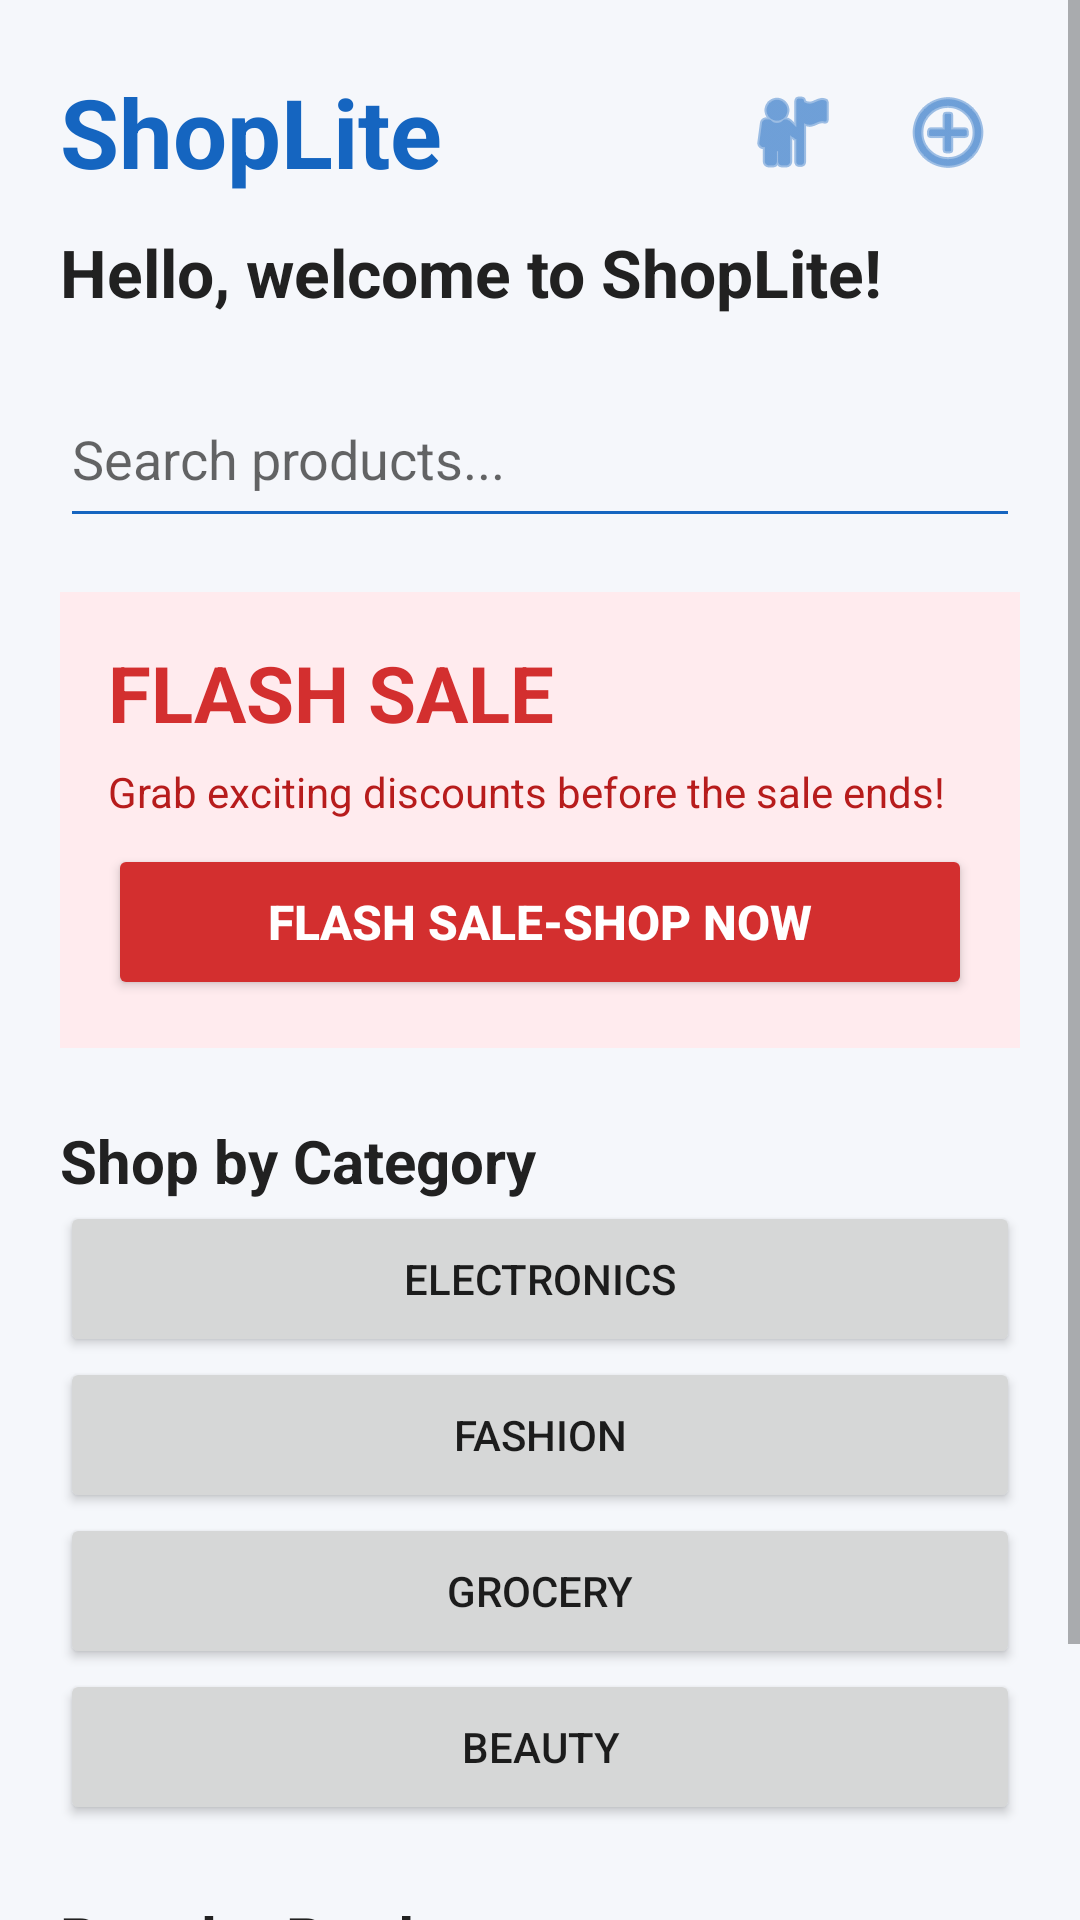

Locate icon controls on the screen. Image size 1080w x 1920h, boxes as bbox=(x1, y1, x2, y2).
My Profile: bbox=(757, 96, 829, 168)
